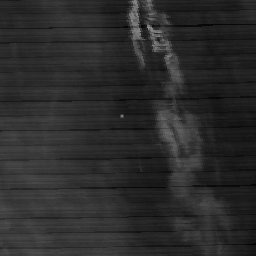Target: (118, 113, 125, 119)
